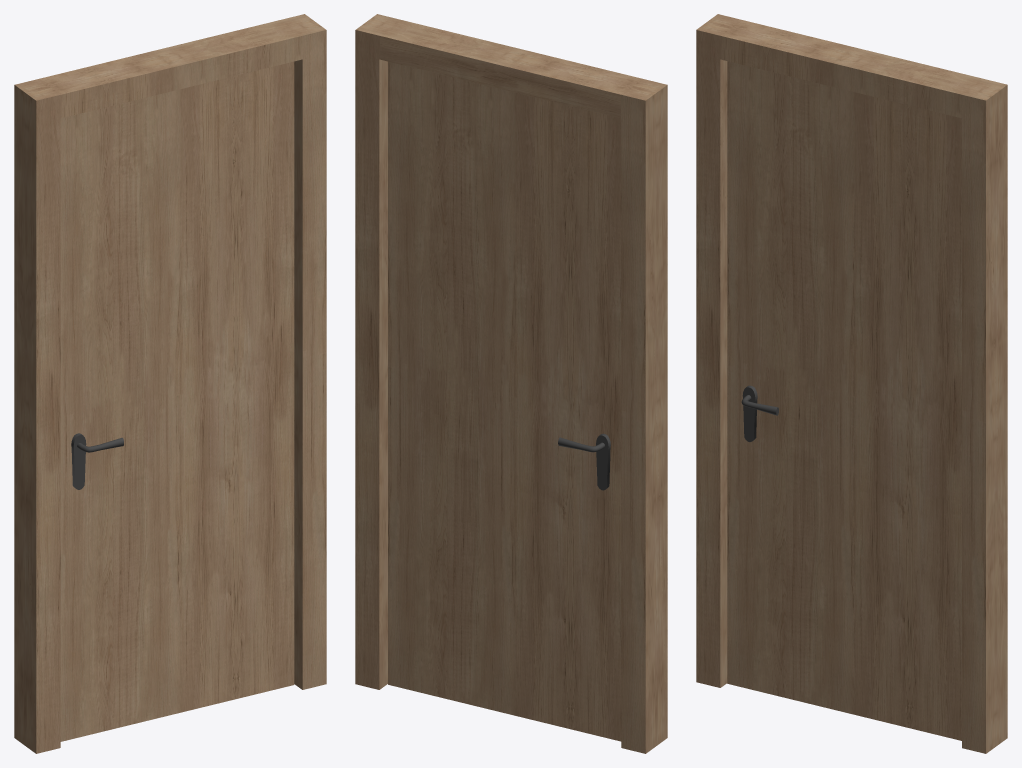
Rendered from Door.FBX.
3 renders of one model, left to right at view 1: azimuth 30°, elevation 25°; view 2: azimuth 150°, elevation 25°; view 3: azimuth 330°, elevation 25°, orthographic.
Visible parts, largest first — view 1: Door, door frame; view 2: Door, door frame; view 3: Door, door frame.
Boxes of the visible parts, x1=… form: Door: x1=60, y1=61, x2=294, y2=741; door frame: x1=14, y1=14, x2=326, y2=753; Door: x1=388, y1=61, x2=621, y2=741; door frame: x1=355, y1=14, x2=667, y2=753; Door: x1=727, y1=61, x2=961, y2=740; door frame: x1=696, y1=14, x2=1007, y2=753.
Bounding box in the file's own units: 96.56 × 208 × 16.82.
Materials: 2 (1 with a texture image).
